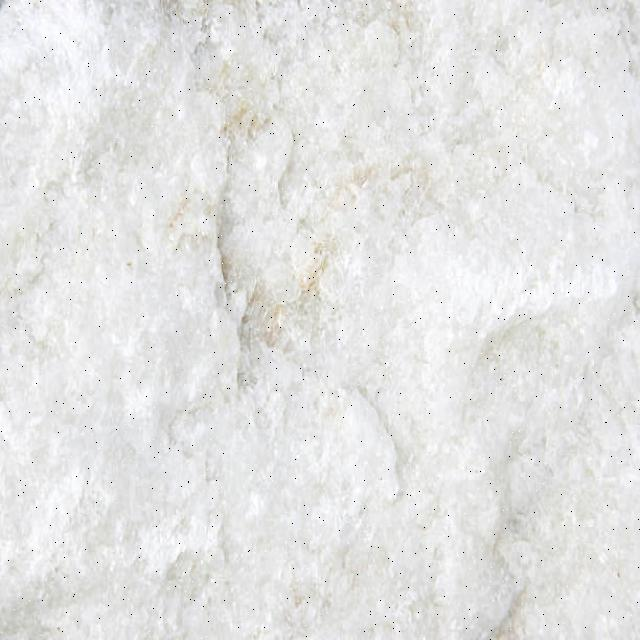Metamorphic: (6, 9, 628, 640)
